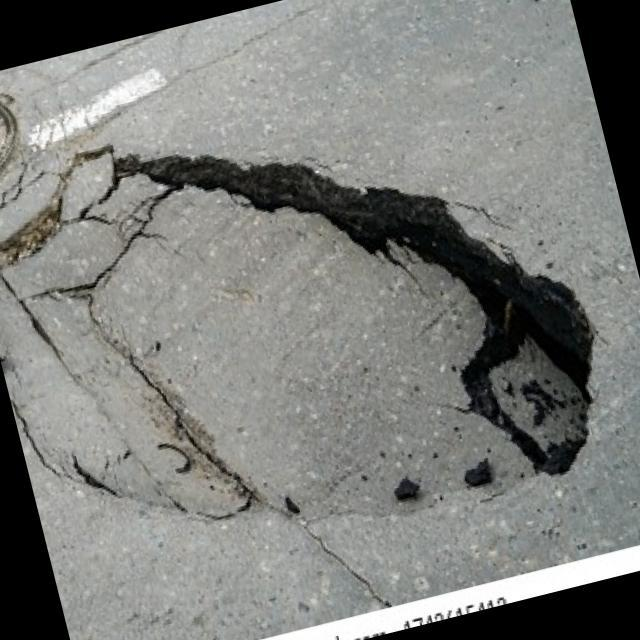Pothole: (0, 61, 630, 609)
